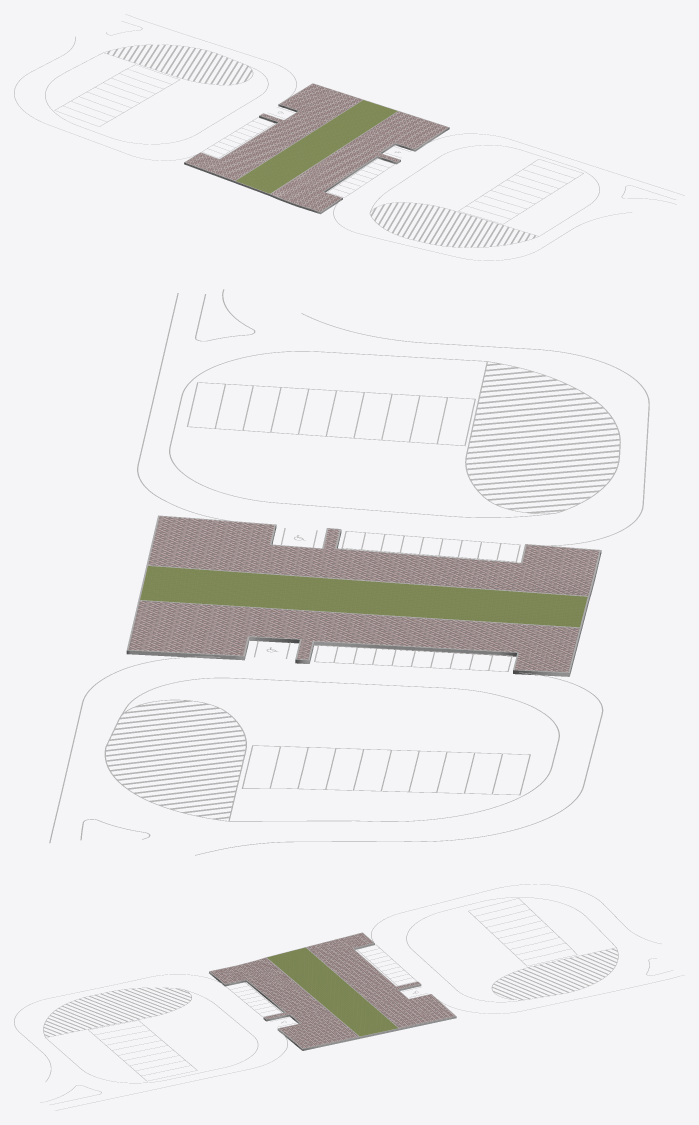
The picture shows the model from 3 angles, top to bottom: view 1: azimuth 30°, elevation 25°; view 2: azimuth 150°, elevation 25°; view 3: azimuth 270°, elevation 25°; orthographic projection. The views are drawn at different scales.
Visible parts, largest first — view 1: PAタイル, PAマーキング, PA芝, PA縁石1; view 2: PAタイル, PAマーキング, PA芝, PA縁石1; view 3: PAタイル, PAマーキング, PA芝, PA縁石1.
Boxes of the visible parts, x1,y1,x2,y2 form: PAタイル: [185, 84, 447, 211]; PAマーキング: [14, 14, 684, 260]; PA芝: [236, 100, 397, 193]; PA縁石1: [184, 83, 449, 214]; PAタイル: [128, 516, 598, 672]; PAマーキング: [49, 289, 649, 855]; PA芝: [140, 566, 587, 627]; PA縁石1: [126, 515, 601, 676]; PAタイル: [210, 933, 454, 1048]; PAマーキング: [14, 884, 684, 1110]; PA芝: [267, 947, 397, 1036]; PA縁石1: [209, 932, 456, 1050].
Size of the model in its own units: 117 by 5.85 by 157.
